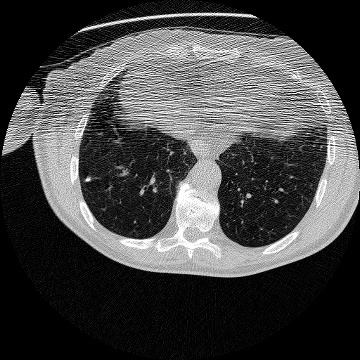PN: (87, 178, 91, 182)
